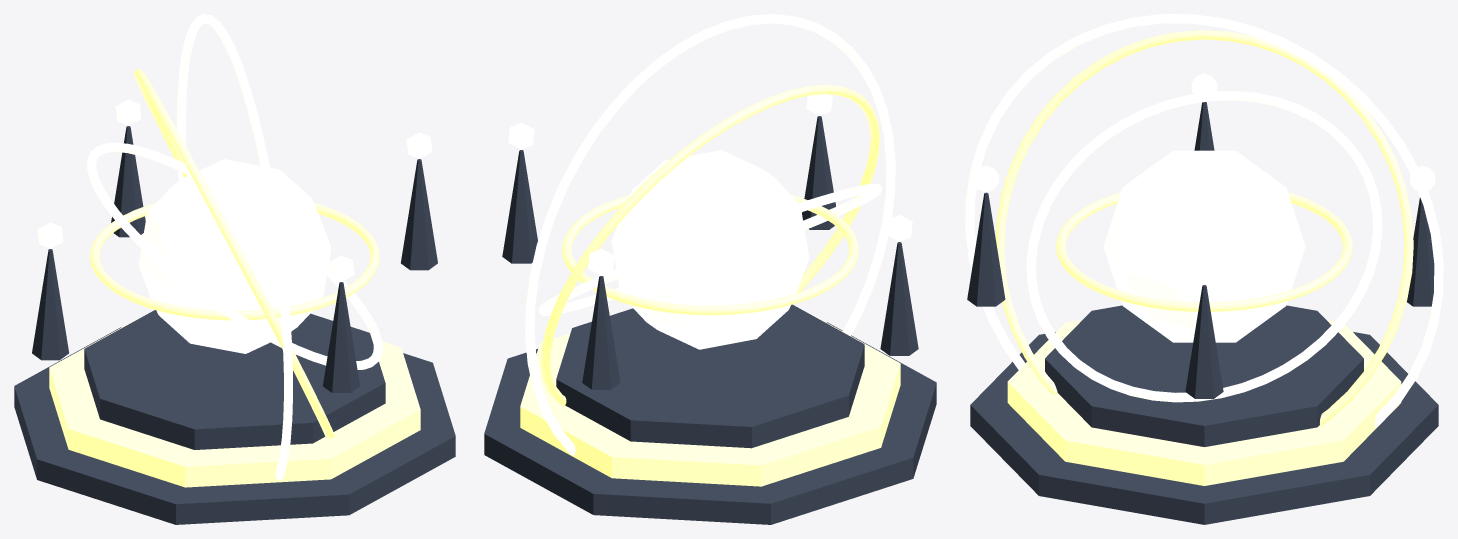
Rendered from gpu-blender-v12.glb.
The picture shows the model from 3 angles, left to right: view 1: azimuth 30°, elevation 25°; view 2: azimuth 150°, elevation 25°; view 3: azimuth 270°, elevation 25°; orthographic projection. The views are drawn at different scales.
Parts seen in each view (by area): view 1: Cylinder.002, SovereignCore_zothos-lite, Cylinder, Cylinder.001, Torus.003, Torus.001, Torus.002, Torus, Cone, Cone.002, Cone.003, Cone.001 (+4 smaller); view 2: Cylinder.002, SovereignCore_zothos-lite, Cylinder, Cylinder.001, Torus.003, Torus.002, Torus, Torus.001, Cone.001, Cone.002, Cone, Cone.003 (+3 smaller); view 3: SovereignCore_zothos-lite, Cylinder.002, Cylinder, Cylinder.001, Torus.001, Torus.003, Torus.002, Torus, Cone.003, Cone, Cone.001, Cone.002 (+2 smaller).
Part boxes in pixels (<box>): Cylinder.002: <box>84,310,385,449</box>; SovereignCore_zothos-lite: <box>138,159,331,353</box>; Cylinder: <box>14,327,455,524</box>; Cylinder.001: <box>49,318,420,487</box>; Torus.003: <box>177,14,292,480</box>; Torus.001: <box>87,142,382,369</box>; Torus.002: <box>134,69,334,438</box>; Torus: <box>90,203,379,320</box>; Cone: <box>401,159,437,270</box>; Cone.002: <box>32,249,68,360</box>; Cone.003: <box>323,282,359,392</box>; Cone.001: <box>111,126,145,237</box>; Cylinder.002: <box>556,304,864,448</box>; SovereignCore_zothos-lite: <box>611,150,809,349</box>; Cylinder: <box>484,322,936,524</box>; Cylinder.001: <box>520,313,900,486</box>; Torus.003: <box>525,14,895,455</box>; Torus.002: <box>541,84,879,406</box>; Torus: <box>562,195,858,315</box>; Torus.001: <box>539,183,881,315</box>; Cone.001: <box>582,276,620,389</box>; Cone.002: <box>880,242,918,355</box>; Cone: <box>502,150,537,263</box>; Cone.003: <box>802,116,835,229</box>; SovereignCore_zothos-lite: <box>1103,150,1305,342</box>; Cylinder.002: <box>1045,305,1363,446</box>; Cylinder: <box>970,332,1438,524</box>; Cylinder.001: <box>1007,320,1401,485</box>; Torus.001: <box>1026,91,1382,402</box>; Torus.003: <box>965,14,1443,427</box>; Torus.002: <box>995,30,1413,426</box>; Torus: <box>1056,192,1352,311</box>; Cone.003: <box>967,192,1005,306</box>; Cone: <box>1185,285,1223,398</box>; Cone.001: <box>1407,197,1434,306</box>; Cone.002: <box>1194,102,1214,150</box>.
Size of the model in its own units: 4.41 by 4.7 by 4.49.
